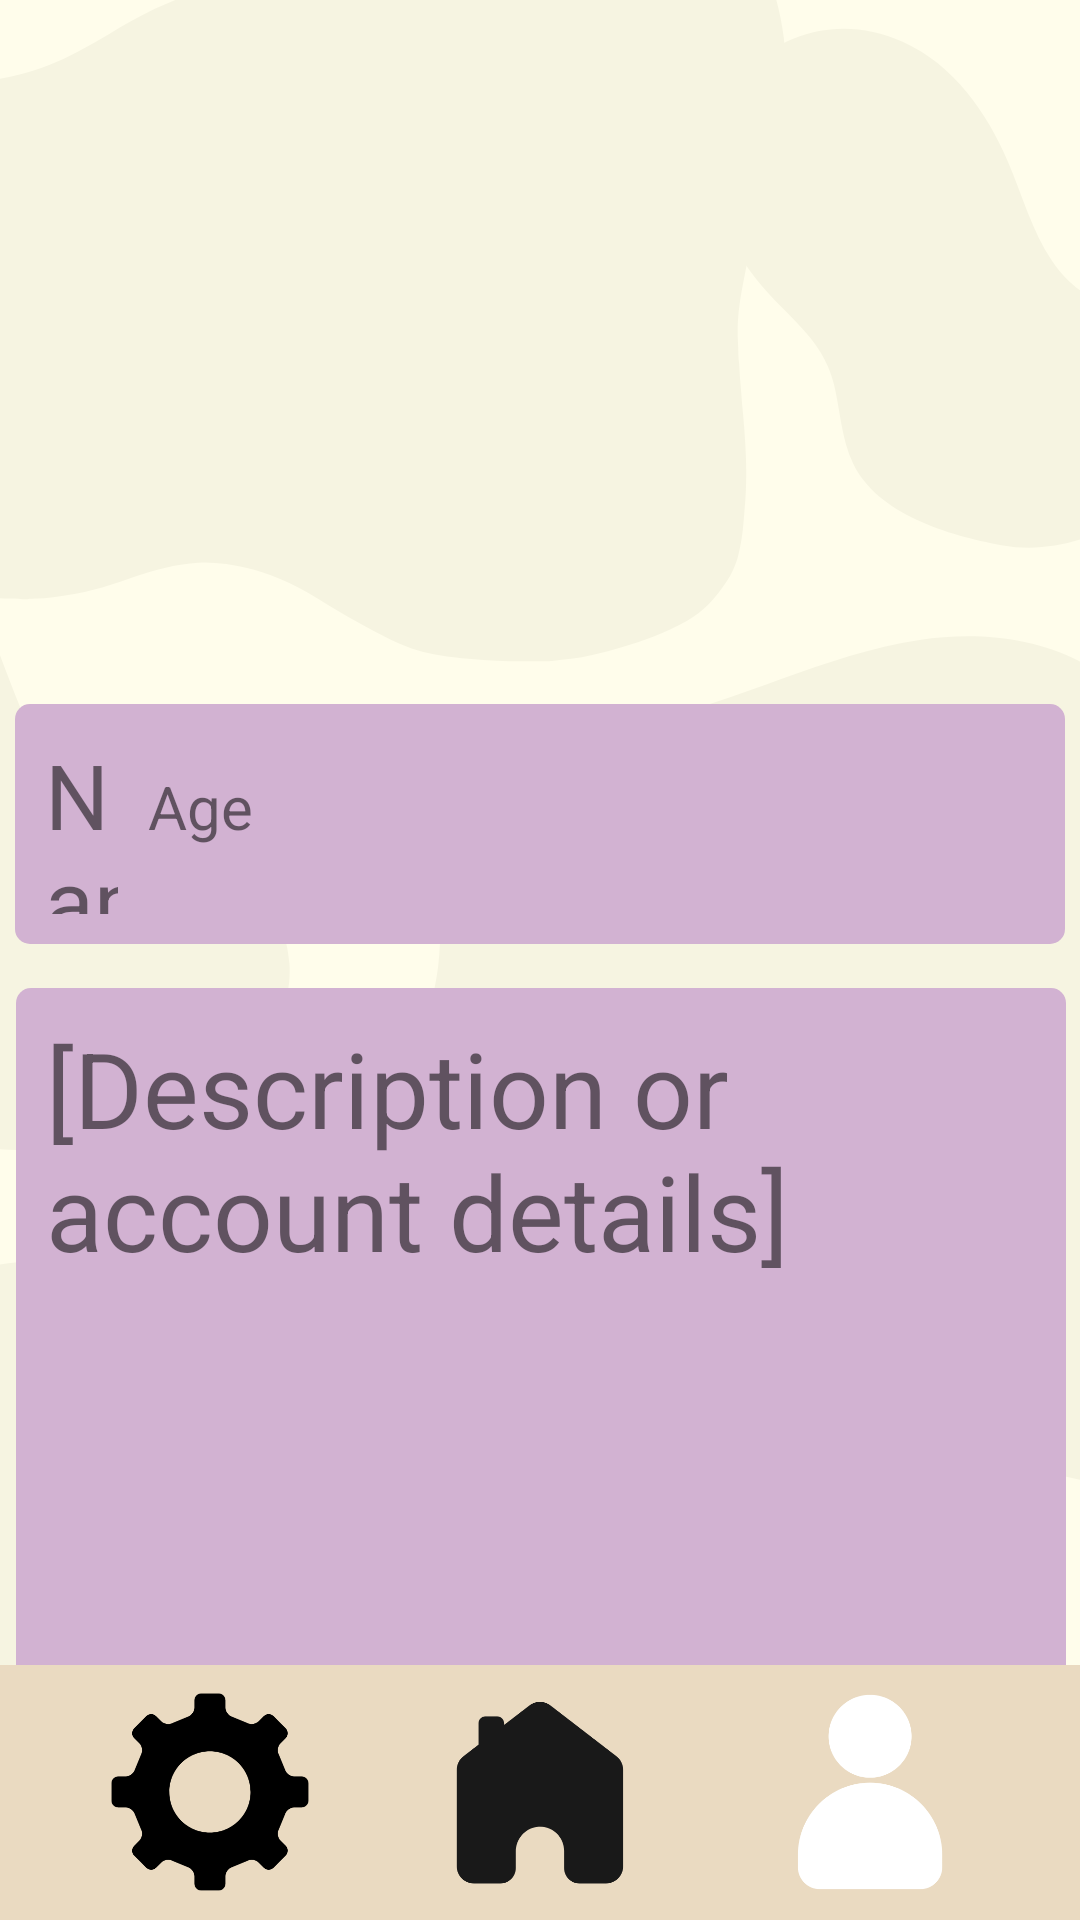

Screen size 1080*1920. Icon name, then its box in pixels as (x1, y1, x2, y2):
profile: (798, 1695, 942, 1889)
settings: (111, 1693, 309, 1891)
